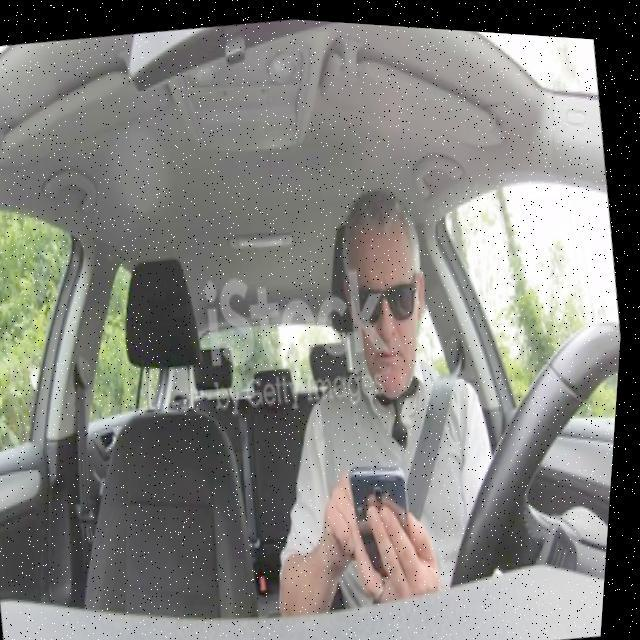PhoneCall: (347, 454, 430, 584)
